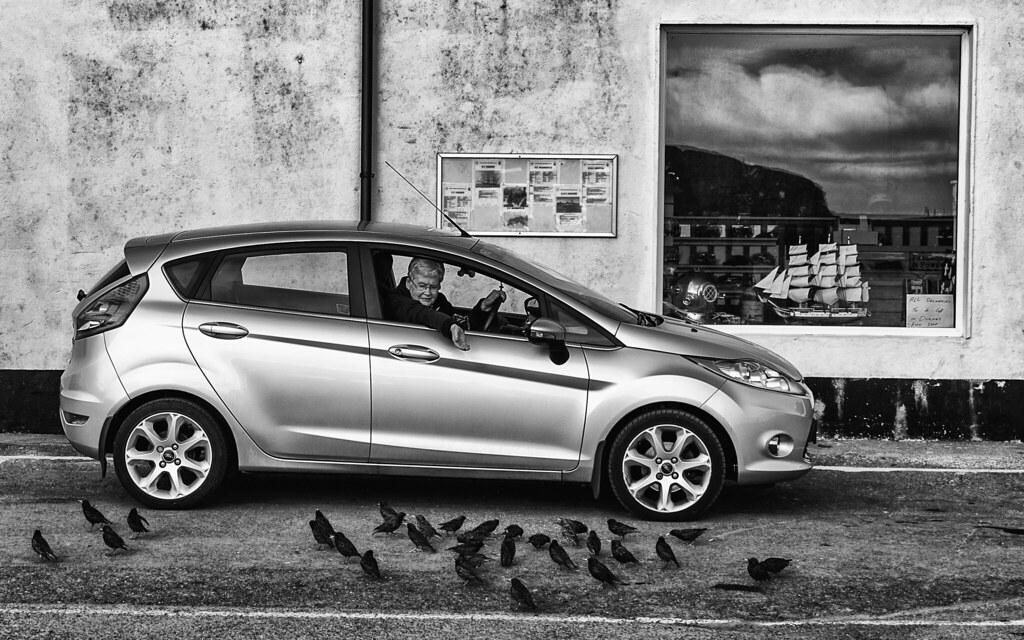car: (58, 219, 818, 522)
